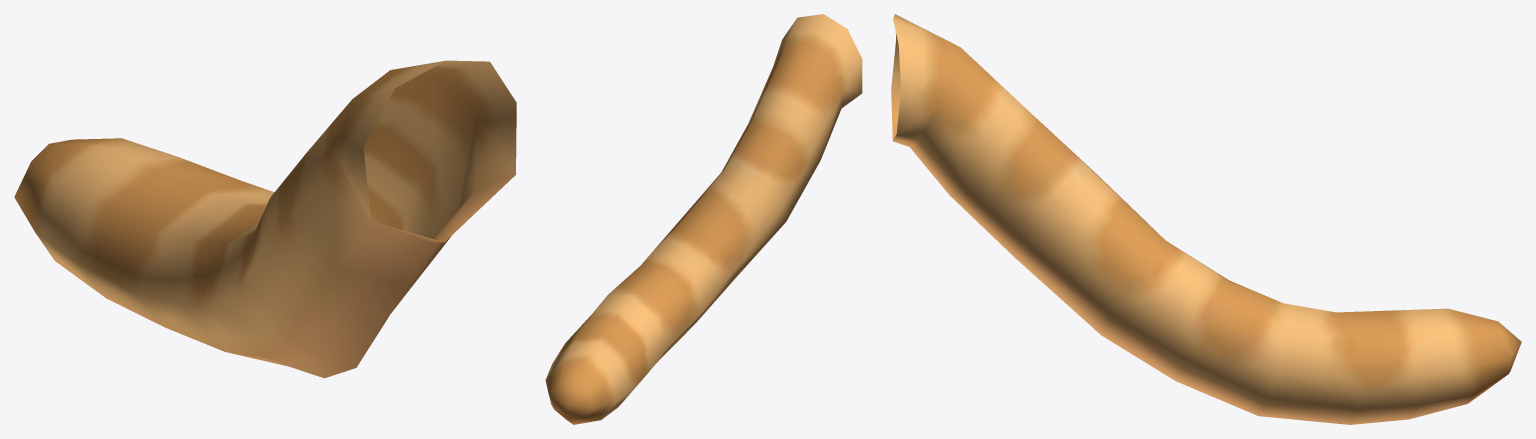
File: maowei.fbx
3 renders of one model, left to right at view 1: azimuth 30°, elevation 25°; view 2: azimuth 150°, elevation 25°; view 3: azimuth 270°, elevation 25°, orthographic. The views are drawn at different scales.
Parts seen in each view (by area): view 1: JYCmaoL_1_0_L_0; view 2: JYCmaoL_1_0_L_0; view 3: JYCmaoL_1_0_L_0.
Boxes of the visible parts, <box> form: JYCmaoL_1_0_L_0: <box>14,60,516,378</box>; JYCmaoL_1_0_L_0: <box>545,14,862,424</box>; JYCmaoL_1_0_L_0: <box>891,14,1521,424</box>.
Bounding box in the file's own units: 10.26 × 20.7 × 31.98.
